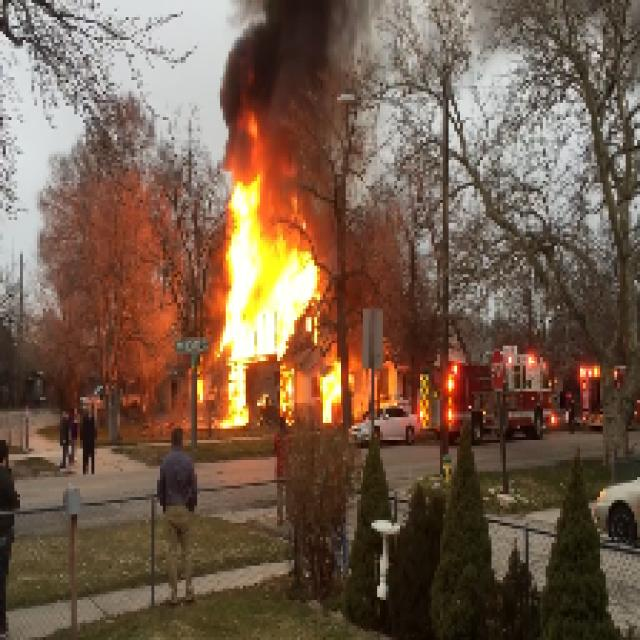fire: (211, 172, 322, 432)
smoke: (263, 0, 315, 123)
